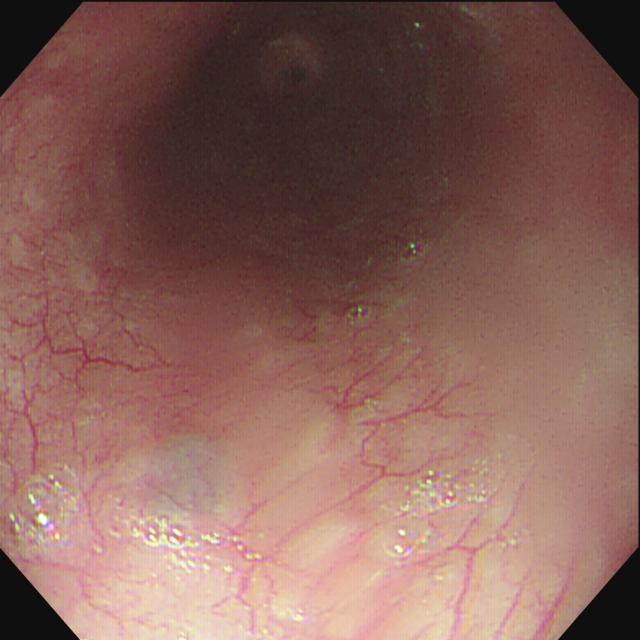E: (146, 10, 446, 229)
T: (385, 460, 504, 563), (115, 502, 261, 575), (3, 463, 80, 561), (398, 237, 439, 265), (342, 302, 374, 325)
